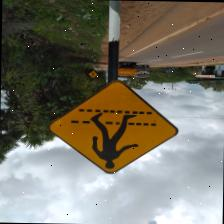yellowboard: (44, 78, 180, 176)
